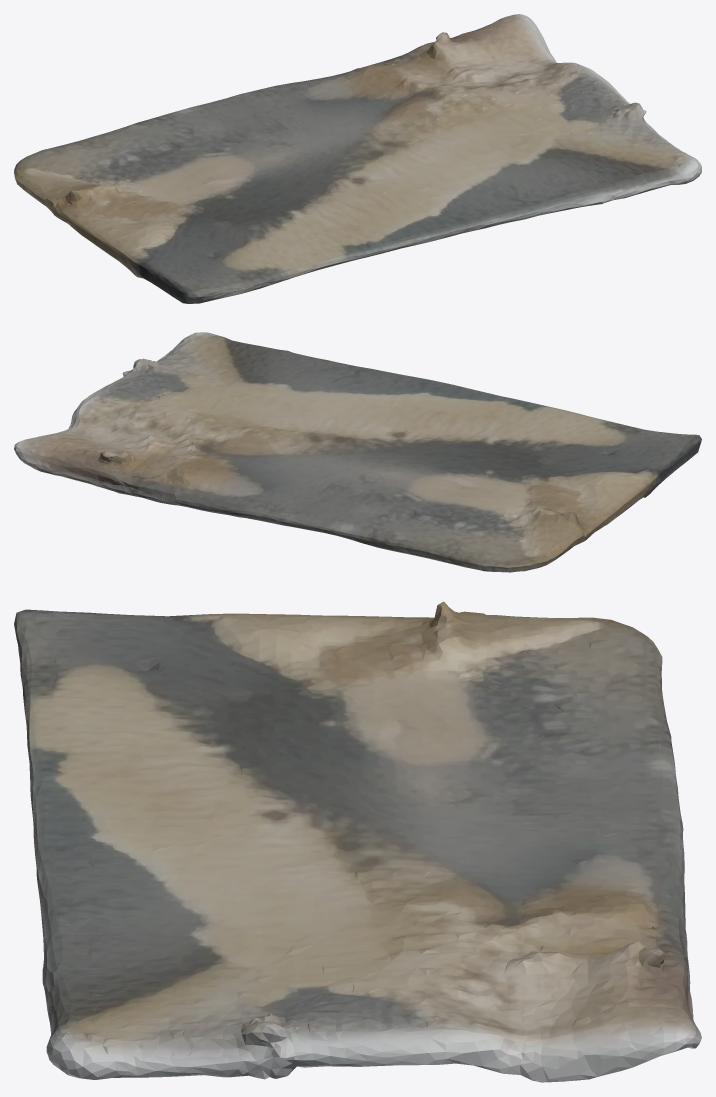
Rendered from ast_b80f4e4a387b.glb.
3 views of the same model, one above another, from view 1: azimuth 30°, elevation 25°; view 2: azimuth 150°, elevation 25°; view 3: azimuth 270°, elevation 25° (orthographic). The views are drawn at different scales.
Parts seen in each view (by area): view 1: geometry_0; view 2: geometry_0; view 3: geometry_0.
Part boxes in pixels (left/top/right/bottom): geometry_0: left=14, top=14, right=701, bottom=303; geometry_0: left=14, top=332, right=701, bottom=572; geometry_0: left=14, top=601, right=701, bottom=1082.
Size of the model in its own units: 0.9866 by 0.0689 by 0.644.
Materials: 1 (1 with a texture image).
